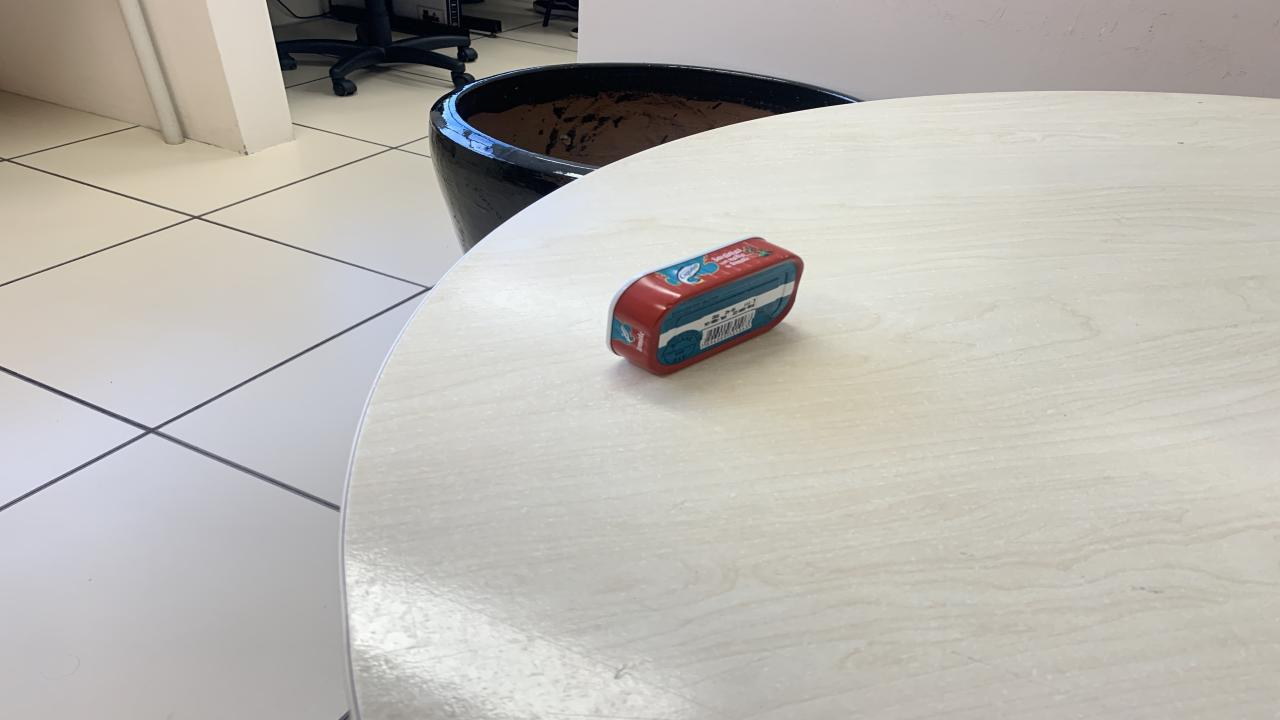Tuna_Can-Pantry_Items: (608, 239, 805, 378)
